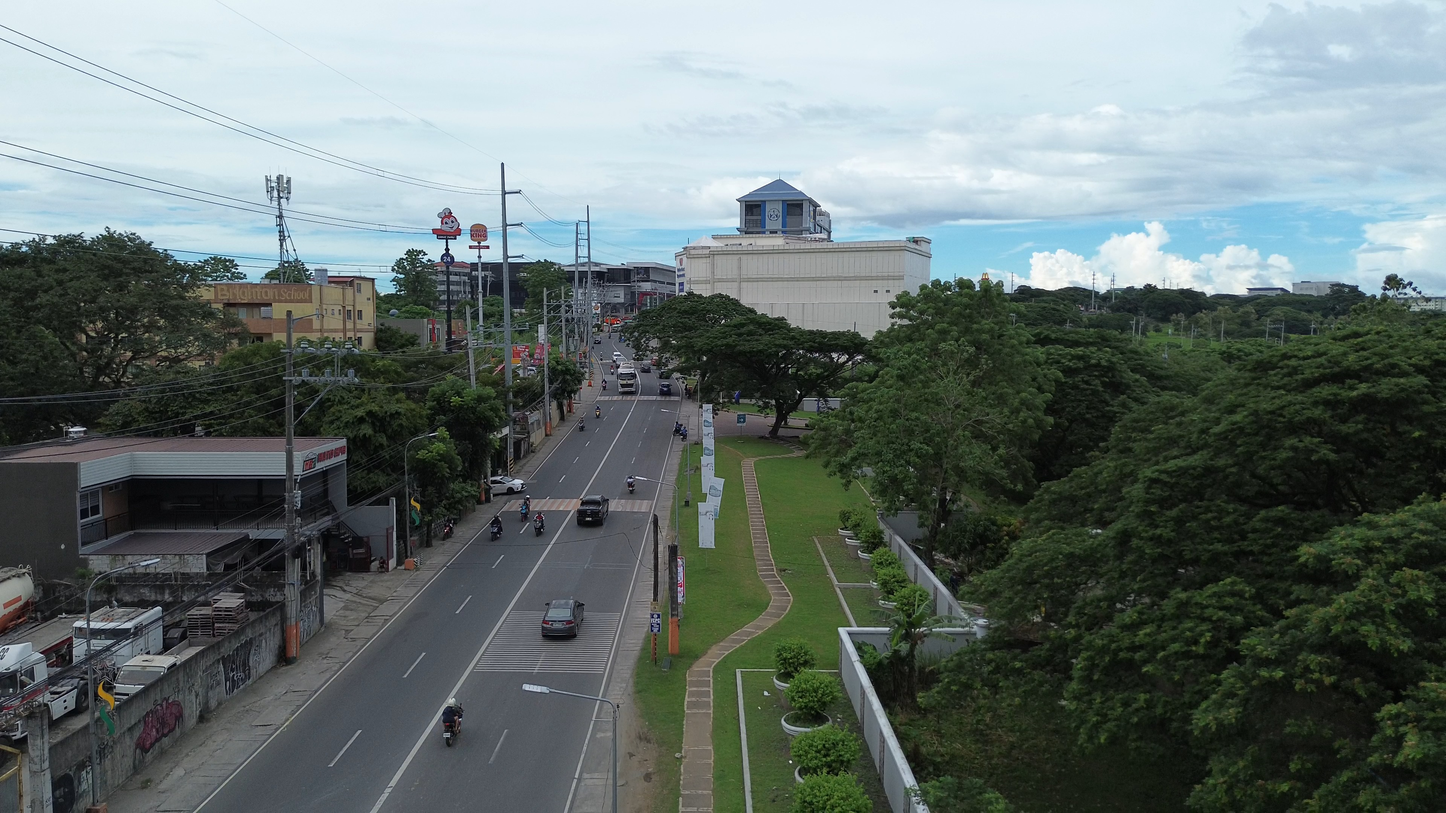car: (541, 599, 584, 636), (488, 475, 526, 494), (658, 381, 672, 396), (638, 362, 652, 373), (593, 336, 602, 344)
motorcycle: (442, 719, 459, 746), (441, 517, 454, 540), (534, 513, 545, 535), (490, 523, 502, 541), (626, 477, 635, 494), (595, 406, 601, 419), (578, 419, 585, 430)
truck: (0, 616, 84, 718)
vehicle: (73, 607, 163, 663), (112, 655, 180, 702), (0, 567, 34, 632), (577, 495, 609, 524), (617, 362, 638, 394), (534, 512, 545, 535), (639, 361, 653, 373), (626, 475, 635, 493), (612, 351, 624, 363), (578, 418, 585, 430)
